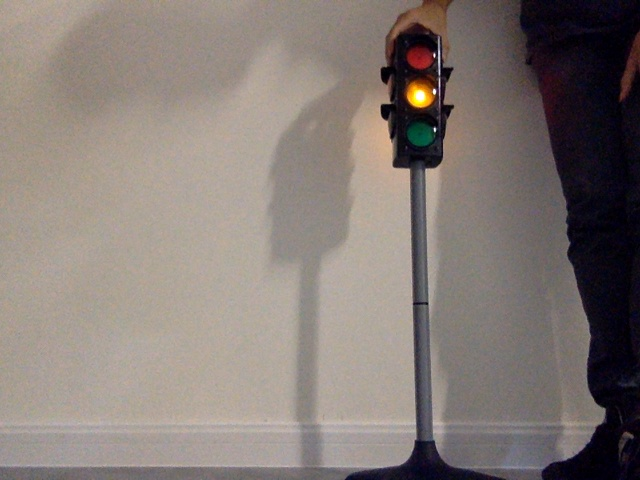yellow: (399, 43, 436, 152)
